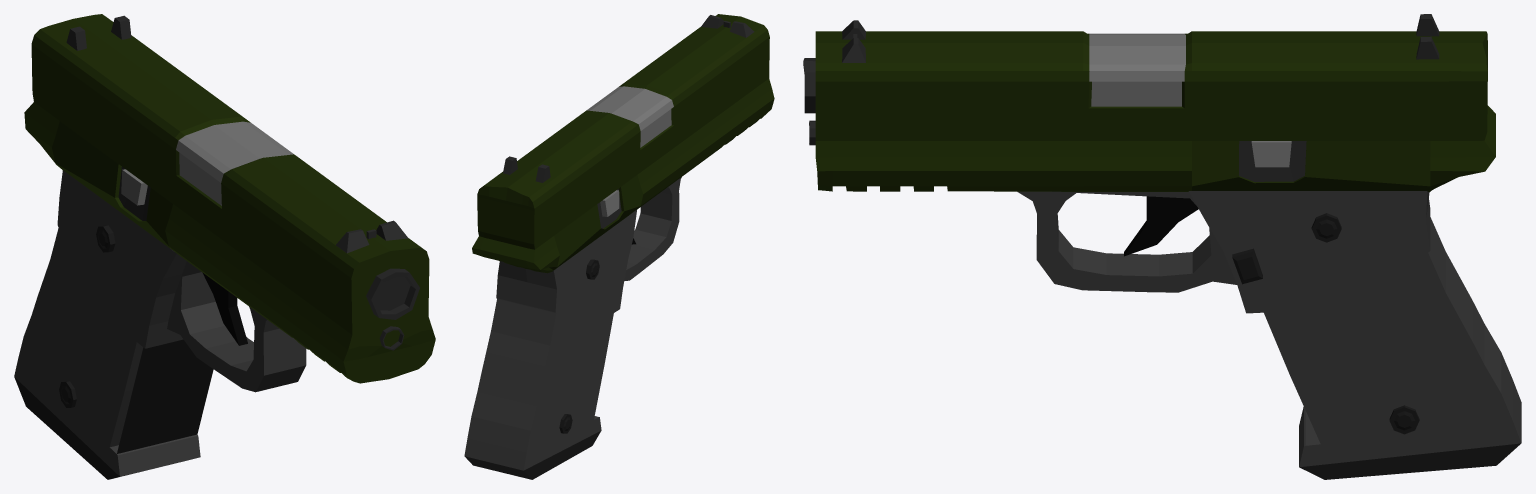
File: Glock19LowPoly.glb
3 views of the same model, side by side, from view 1: azimuth 30°, elevation 25°; view 2: azimuth 150°, elevation 25°; view 3: azimuth 270°, elevation 25° (orthographic). The views are drawn at different scales.
Parts seen in each view (by area): view 1: Upper, Grip, Gatillo; view 2: Upper, Grip, Gatillo; view 3: Upper, Grip, Gatillo.
Boxes of the visible parts, x1,y1,x2,y2 form: Upper: (24,14,435,383); Grip: (14,170,213,479); Gatillo: (167,261,306,392); Upper: (472,14,774,273); Grip: (464,210,636,479); Gatillo: (624,177,681,280); Upper: (803,14,1495,191); Grip: (1188,191,1521,479); Gatillo: (1017,191,1236,292).
Bounding box in the file's own units: 0.402 × 1.7 × 2.56.
